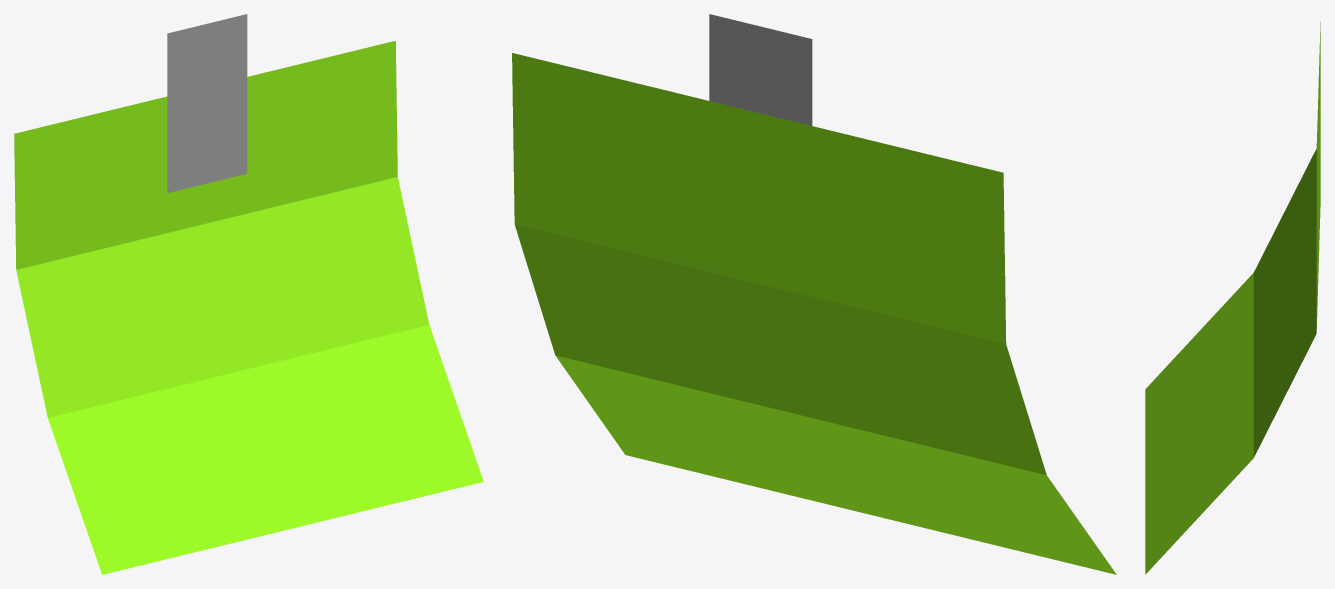
File: Note.fbx
The picture shows the model from 3 angles, left to right: view 1: azimuth 30°, elevation 25°; view 2: azimuth 150°, elevation 25°; view 3: azimuth 270°, elevation 25°; orthographic projection. The views are drawn at different scales.
Visible parts, largest first — view 1: Note; view 2: Note; view 3: Note.
Boxes of the visible parts, <box> form: Note: <box>14,14,483,574</box>; Note: <box>512,14,1116,574</box>; Note: <box>1145,21,1320,574</box>.
Bounding box in the file's own units: 60 × 66.4 × 23.97.
